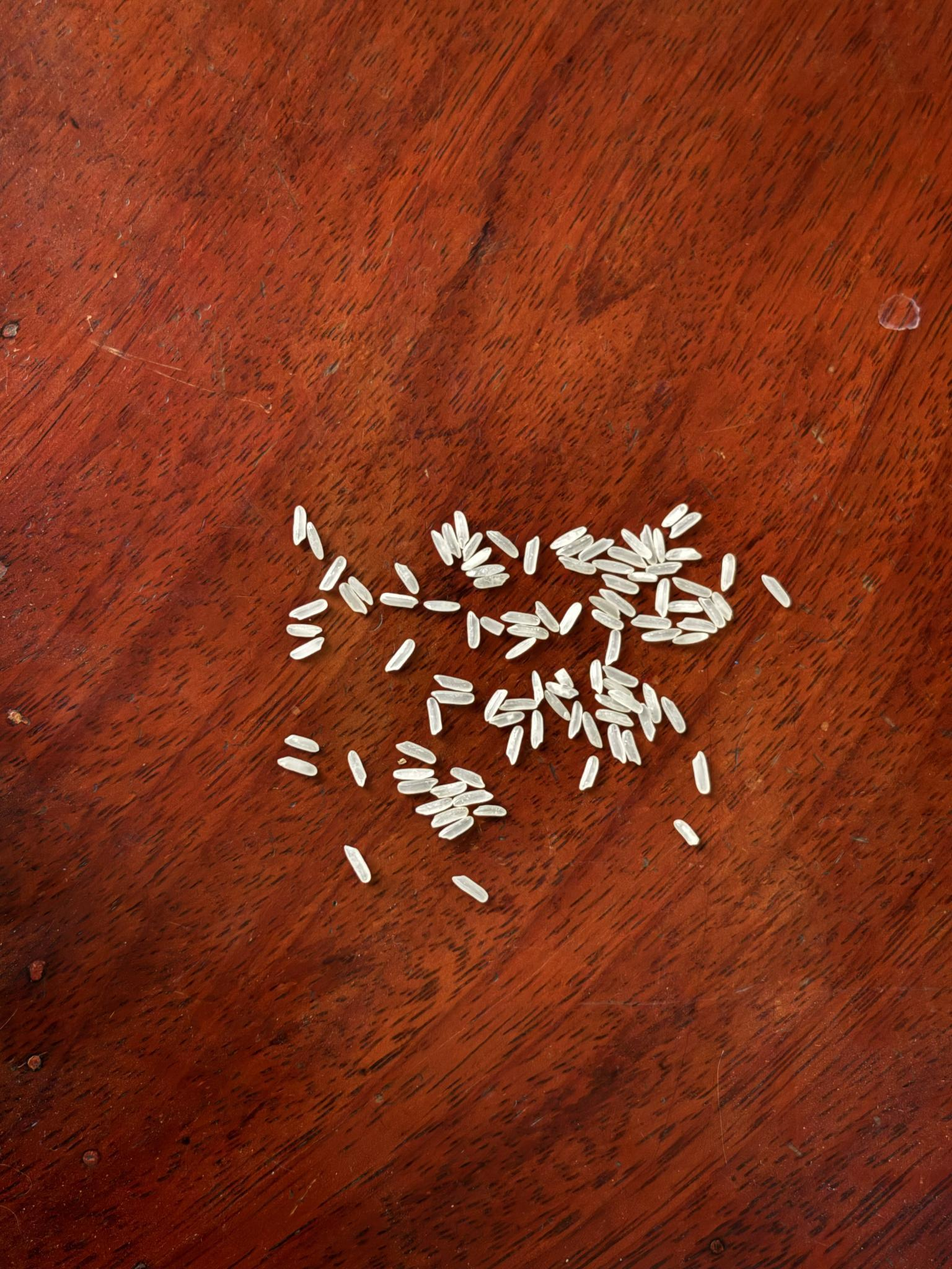Rice-th-y-nh: (344, 845, 371, 883), (621, 529, 652, 560), (452, 876, 488, 902), (386, 639, 415, 671), (320, 556, 346, 591), (602, 590, 636, 616), (762, 576, 790, 607), (339, 583, 367, 614), (662, 697, 686, 733), (609, 545, 646, 568), (396, 742, 436, 763), (669, 512, 701, 538), (642, 684, 663, 723), (608, 689, 642, 713), (698, 598, 725, 628), (487, 531, 518, 557), (439, 816, 474, 839), (551, 526, 586, 549), (431, 806, 469, 827), (580, 538, 614, 561), (544, 690, 570, 720), (535, 601, 560, 632), (558, 535, 593, 557), (483, 689, 507, 721), (278, 757, 318, 776), (396, 777, 438, 795), (431, 531, 453, 565), (673, 578, 712, 597), (582, 712, 602, 749), (602, 574, 639, 594), (348, 577, 374, 605), (395, 563, 419, 593), (290, 638, 324, 659), (451, 767, 485, 788), (461, 548, 492, 571), (607, 725, 626, 762), (506, 726, 524, 765), (347, 751, 367, 786), (290, 600, 328, 618), (558, 556, 596, 574), (560, 603, 582, 634), (622, 731, 642, 765), (579, 756, 599, 790), (442, 524, 462, 558), (693, 753, 710, 793), (434, 675, 473, 692), (604, 666, 637, 686), (505, 638, 536, 659), (590, 596, 621, 617), (306, 523, 324, 559), (416, 797, 452, 815), (595, 694, 631, 712), (453, 789, 491, 806), (592, 610, 624, 630), (674, 819, 698, 845), (661, 504, 687, 528), (638, 705, 655, 741), (466, 612, 483, 648), (596, 710, 634, 726), (432, 690, 475, 704), (677, 618, 717, 633), (508, 625, 548, 640), (524, 537, 540, 574), (593, 559, 632, 574), (285, 735, 319, 752), (432, 781, 466, 798), (546, 682, 578, 700), (426, 698, 442, 734), (501, 611, 539, 626), (654, 579, 669, 617), (462, 533, 483, 560), (474, 573, 509, 589), (605, 630, 621, 665), (490, 711, 525, 727), (394, 767, 434, 781), (381, 593, 418, 608), (642, 628, 681, 642), (466, 564, 505, 578), (651, 529, 667, 563), (712, 592, 732, 619), (568, 701, 583, 737), (292, 506, 306, 544), (721, 555, 736, 590), (632, 615, 672, 628), (530, 711, 544, 748), (500, 698, 538, 711), (455, 512, 469, 547), (589, 660, 603, 693), (666, 548, 701, 561), (287, 624, 321, 637), (673, 632, 709, 644), (646, 562, 682, 574), (531, 671, 544, 704), (481, 617, 504, 635), (555, 668, 574, 688), (473, 805, 507, 816), (669, 601, 700, 613), (424, 601, 460, 611), (641, 525, 653, 551), (629, 572, 657, 582)
